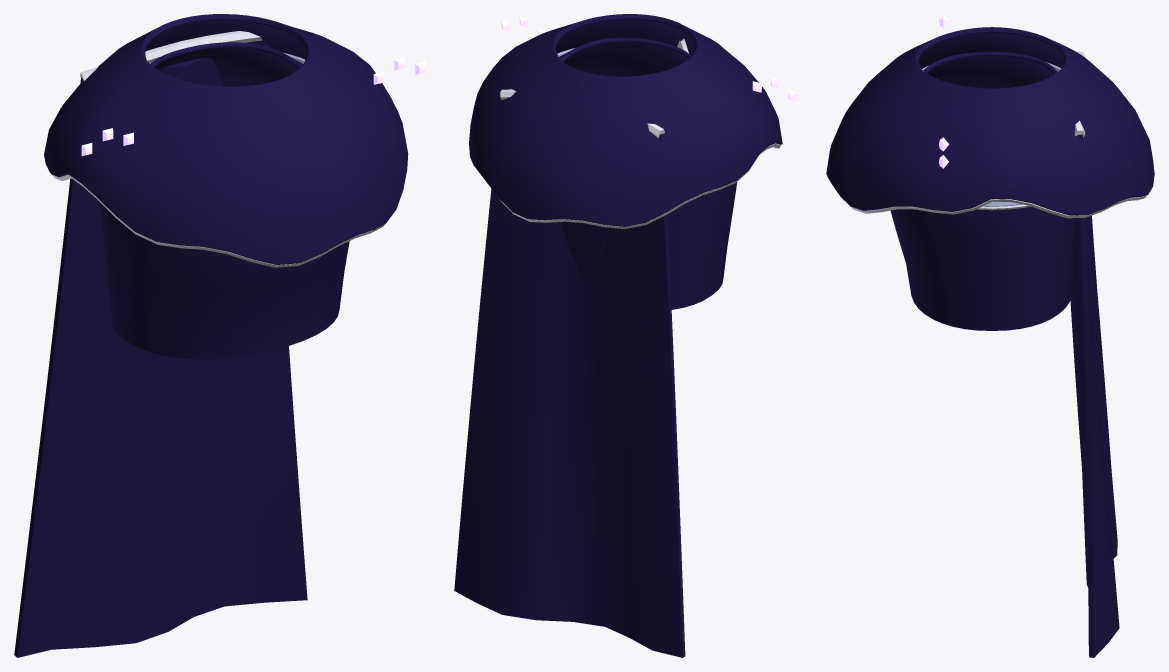
Rendered from asc_astral_magister_armor.glb.
3 renders of one model, left to right at view 1: azimuth 30°, elevation 25°; view 2: azimuth 150°, elevation 25°; view 3: azimuth 270°, elevation 25°, orthographic. The views are drawn at different scales.
Visible parts, largest first — view 1: asc_astral_magister_armor; view 2: asc_astral_magister_armor; view 3: asc_astral_magister_armor.
Part boxes in pixels (bbox=[...]): asc_astral_magister_armor: bbox=[14, 14, 425, 657]; asc_astral_magister_armor: bbox=[454, 14, 797, 657]; asc_astral_magister_armor: bbox=[826, 14, 1154, 657].
Size of the model in its own units: 0.7426 by 1.29 by 0.7093.
